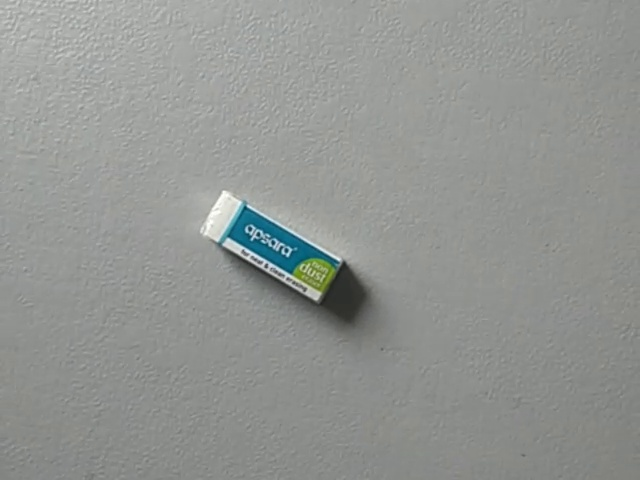Eraser: (197, 188, 348, 306)
